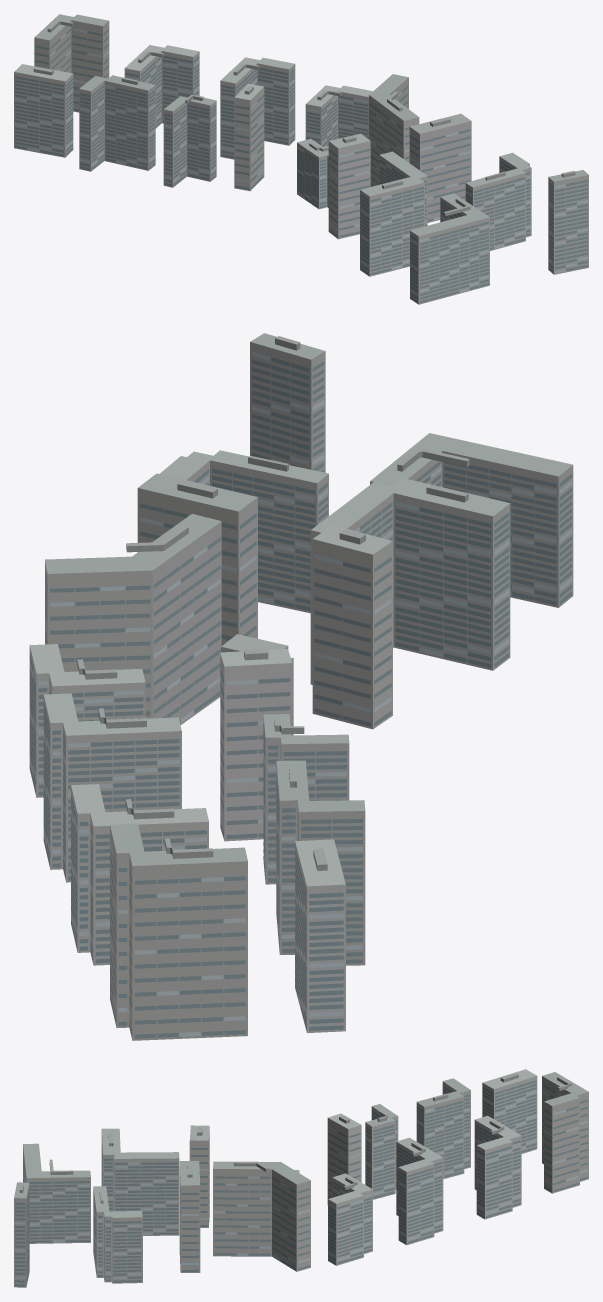
File: apt-a15178201.glb
3 views of the same model, one above another, from view 1: azimuth 30°, elevation 25°; view 2: azimuth 150°, elevation 25°; view 3: azimuth 270°, elevation 25° (orthographic). The views are drawn at different scales.
Parts seen in each view (by area): view 1: apt-a15178201; view 2: apt-a15178201; view 3: apt-a15178201.
Boxes of the visible parts, x1=… form: apt-a15178201: x1=14, y1=14, x2=588, y2=304; apt-a15178201: x1=29, y1=333, x2=573, y2=1040; apt-a15178201: x1=14, y1=1069, x2=588, y2=1287.
Size of the model in its own units: 244 by 72.55 by 409.
